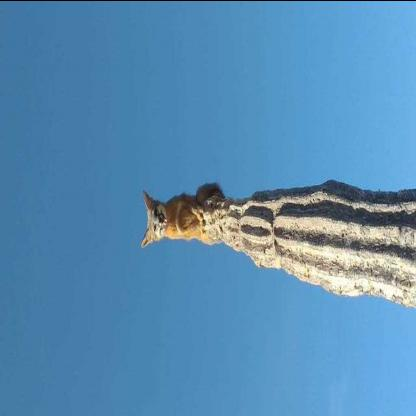zorro: (134, 170, 228, 258)
